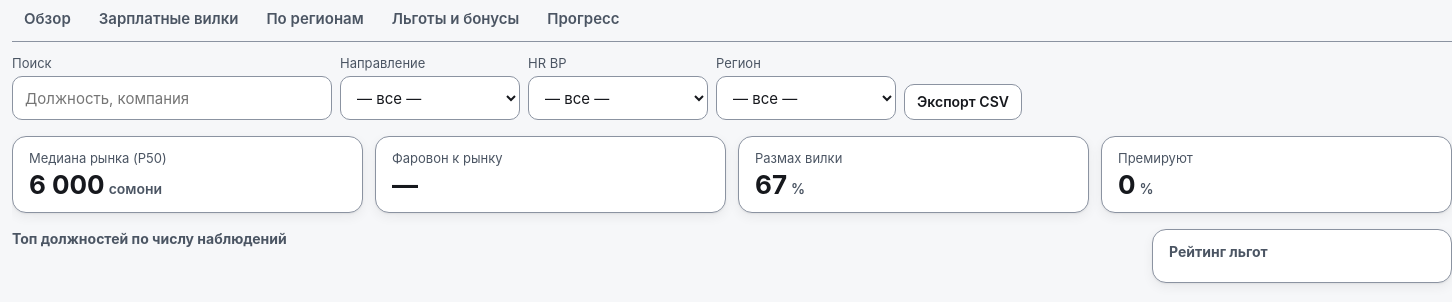
Test: клик по вкладке переключает панель и адрес
Check: the text "Медиана рынка (P50)" is shown, box [29, 150, 167, 166]
Step 1. Click the link "По регионам" → {"x": 315, "y": 18}, box [266, 9, 364, 28]
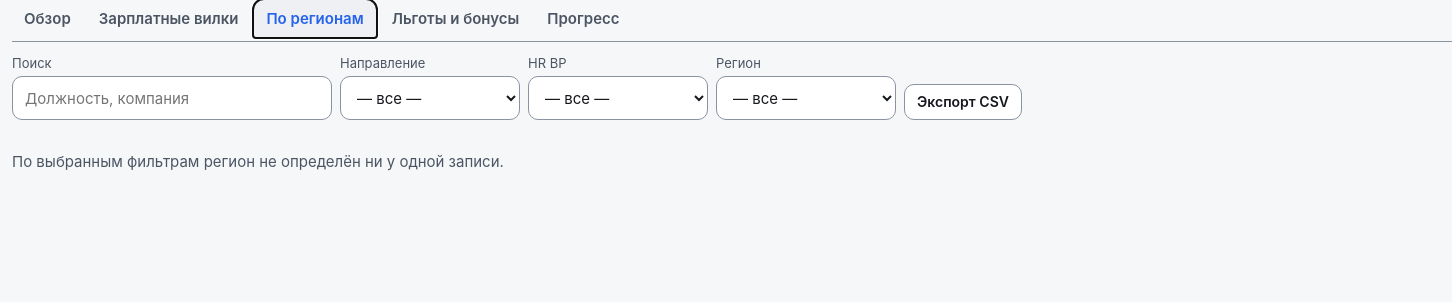
Check: the text "По выбранным фильтрам регион не определён ни у одной записи." is shown, box [12, 152, 504, 171]
